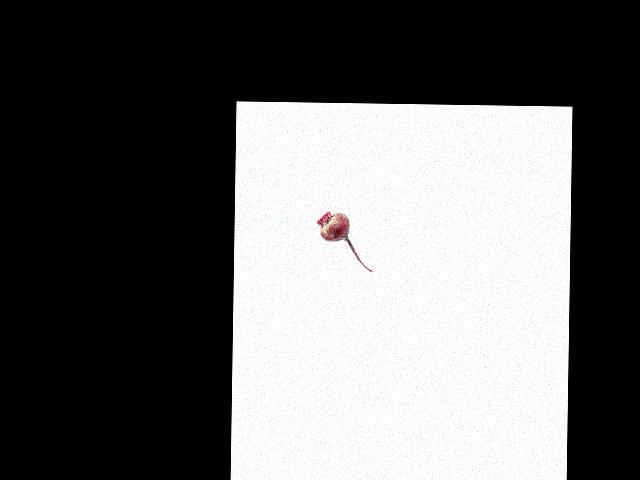beet: (316, 211, 373, 272)
